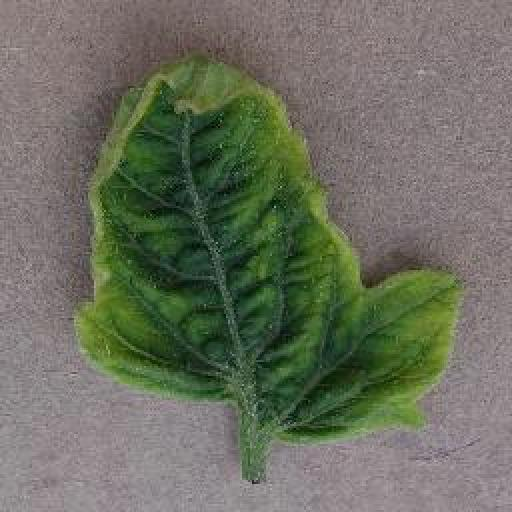disease_tomato: (70, 60, 463, 448)
